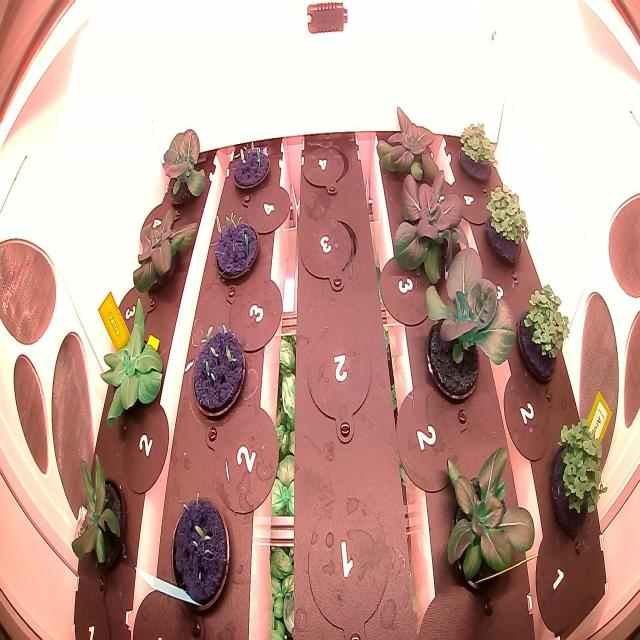empty_pod: (297, 476, 393, 638), (299, 314, 377, 433), (294, 215, 363, 291), (299, 138, 352, 200)
germination: (163, 477, 247, 620), (184, 318, 253, 426), (211, 208, 261, 284), (230, 137, 276, 196)
young: (434, 429, 541, 625), (415, 237, 521, 417), (91, 289, 171, 439), (385, 169, 476, 288), (62, 445, 135, 583), (124, 184, 203, 309), (368, 92, 448, 194), (155, 121, 212, 216)
